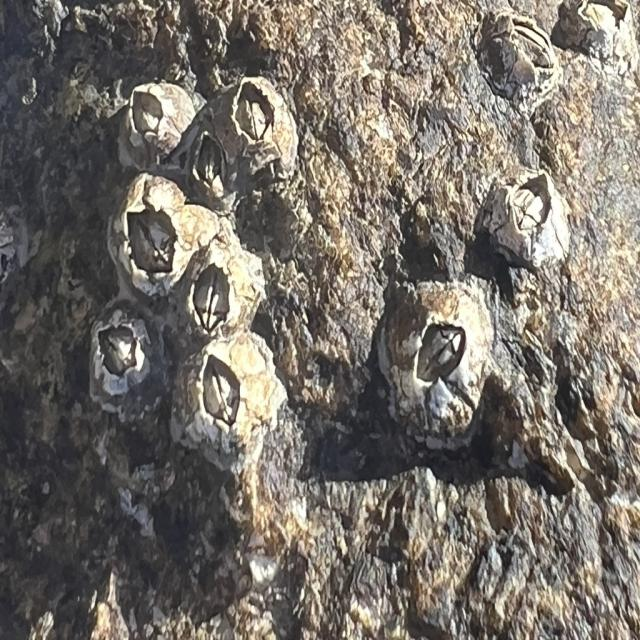barnacles: (381, 272, 494, 446), (173, 342, 285, 476), (473, 168, 572, 279), (169, 236, 266, 347), (82, 306, 174, 422), (468, 11, 566, 118), (110, 175, 194, 293), (211, 70, 299, 178), (112, 66, 202, 170), (175, 140, 234, 202)
